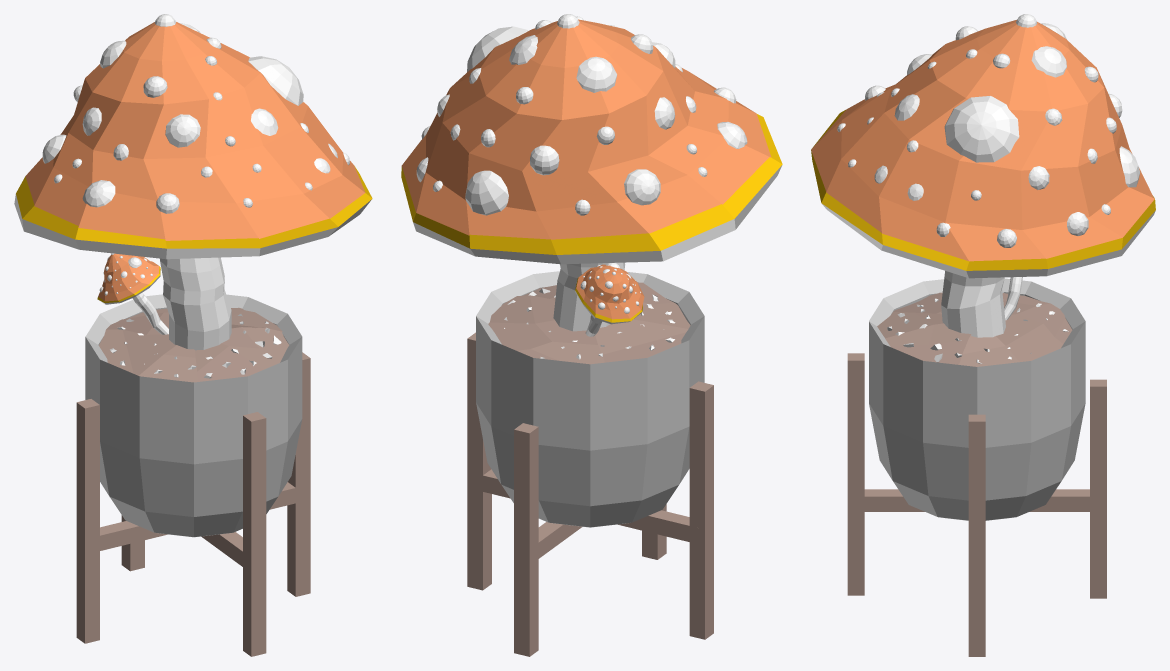
The model's file is Myca.glb.
3 renders of one model, left to right at view 1: azimuth 30°, elevation 25°; view 2: azimuth 150°, elevation 25°; view 3: azimuth 270°, elevation 25°, orthographic. The views are drawn at different scales.
Parts seen in each view (by area): view 1: group1431829916, group1017098028, group154336217, group1877792161, group344876070, group286036162, group1280574213, group1653096596, group339058691, group785078852, group1783406893, group744997409 (+3 smaller); view 2: group1431829916, group1017098028, group154336217, group1877792161, group807900707, group1280574213, group1653096596, group286036162, group339058691, group1424562697, group1783406893, group137434462 (+6 smaller); view 3: group1431829916, group1017098028, group154336217, group1280574213, group344876070, group785078852, group807900707, group286036162, group1783406893, group232561224, group1424562697.
Boxes of the visible parts, left/top/right/bottom form: group1431829916: left=14, top=22, right=372, bottom=259; group1017098028: left=85, top=294, right=302, bottom=537; group154336217: left=99, top=307, right=289, bottom=382; group1877792161: left=76, top=399, right=99, bottom=643; group344876070: left=243, top=412, right=266, bottom=656; group286036162: left=160, top=257, right=231, bottom=350; group1280574213: left=287, top=352, right=310, bottom=596; group1653096596: left=97, top=253, right=168, bottom=334; group339058691: left=100, top=482, right=310, bottom=550; group785078852: left=248, top=56, right=303, bottom=105; group1783406893: left=201, top=532, right=266, bottom=573; group744997409: left=165, top=114, right=200, bottom=147; group1431829916: left=401, top=19, right=782, bottom=264; group1017098028: left=476, top=271, right=704, bottom=527; group154336217: left=488, top=282, right=690, bottom=364; group1877792161: left=689, top=381, right=713, bottom=639; group807900707: left=514, top=423, right=538, bottom=656; group1280574213: left=467, top=332, right=491, bottom=590; group1653096596: left=575, top=263, right=644, bottom=336; group286036162: left=553, top=262, right=625, bottom=331; group339058691: left=483, top=469, right=704, bottom=545; group1424562697: left=465, top=170, right=508, bottom=215; group1783406893: left=514, top=522, right=582, bottom=565; group137434462: left=576, top=56, right=617, bottom=92; group1431829916: left=811, top=20, right=1155, bottom=278; group1017098028: left=869, top=278, right=1085, bottom=520; group154336217: left=877, top=292, right=1072, bottom=366; group1280574213: left=968, top=414, right=985, bottom=656; group344876070: left=847, top=353, right=864, bottom=595; group785078852: left=944, top=96, right=1019, bottom=162; group807900707: left=1090, top=379, right=1106, bottom=598; group286036162: left=941, top=271, right=1005, bottom=337; group1783406893: left=847, top=489, right=1089, bottom=511; group232561224: left=1031, top=46, right=1066, bottom=77; group1424562697: left=1119, top=146, right=1140, bottom=187.
Bounding box in the file's own units: 3.28 × 5.84 × 3.12.
